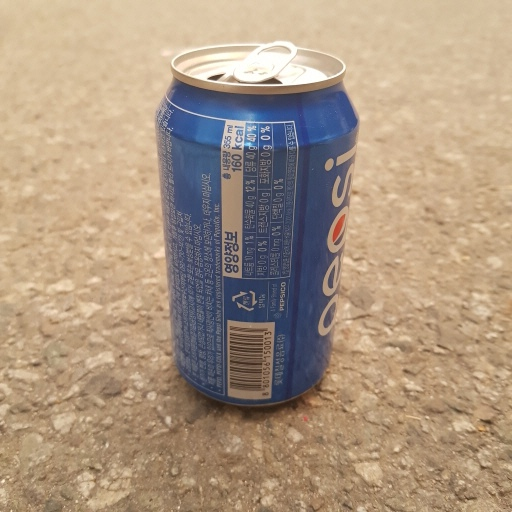Metal_0: (156, 40, 363, 407)
